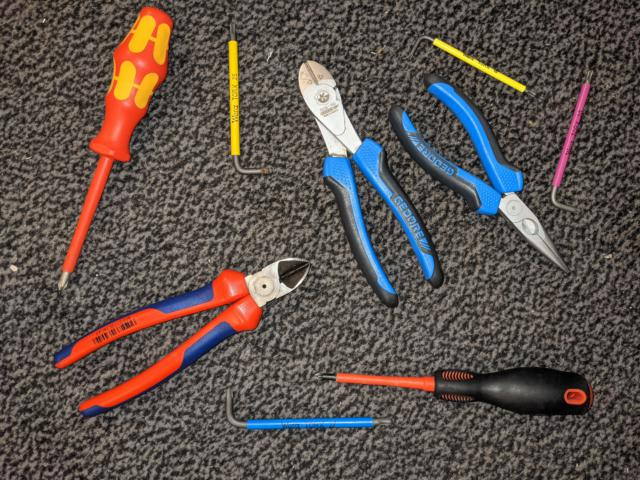Inbusschlüssel: (405, 31, 542, 102), (224, 19, 281, 177), (223, 385, 395, 434), (547, 66, 599, 212)
Schraubendreher: (51, 3, 176, 296), (313, 364, 599, 419)
Seitenschneider: (50, 255, 314, 420), (294, 58, 448, 311)
Zange: (379, 67, 577, 278)
